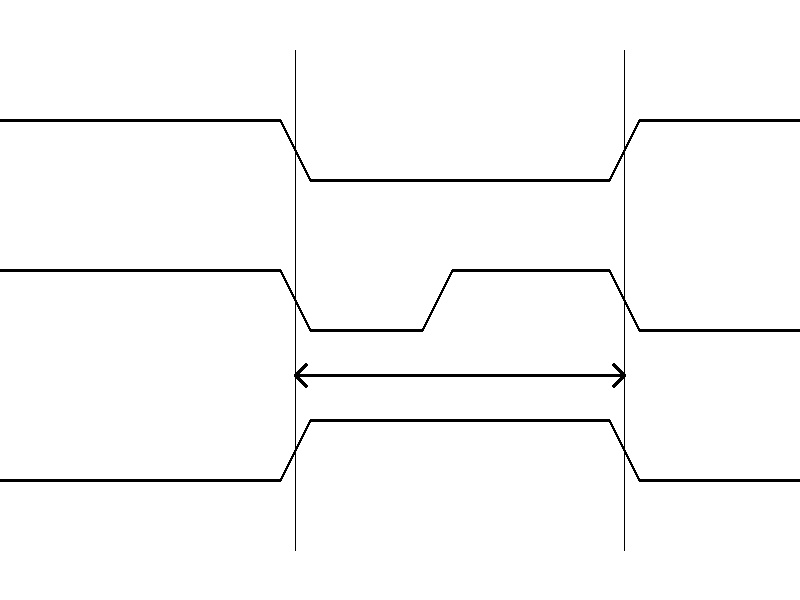double_arrow: (295, 360, 624, 390)
